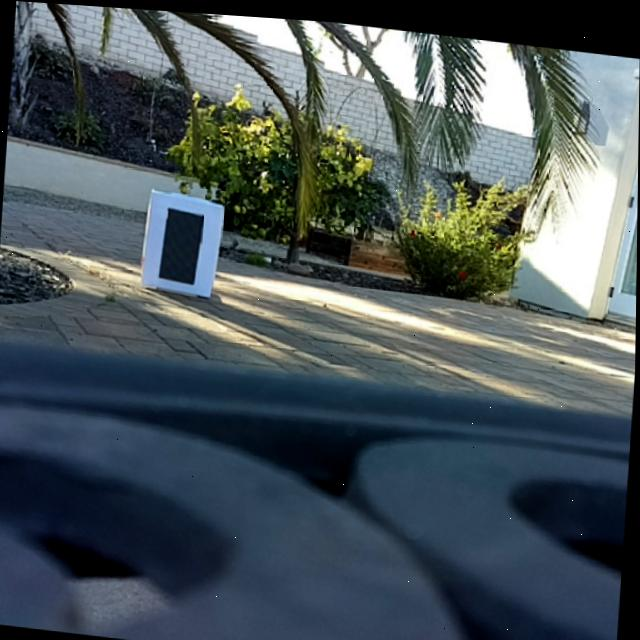led: (158, 201, 207, 285)
